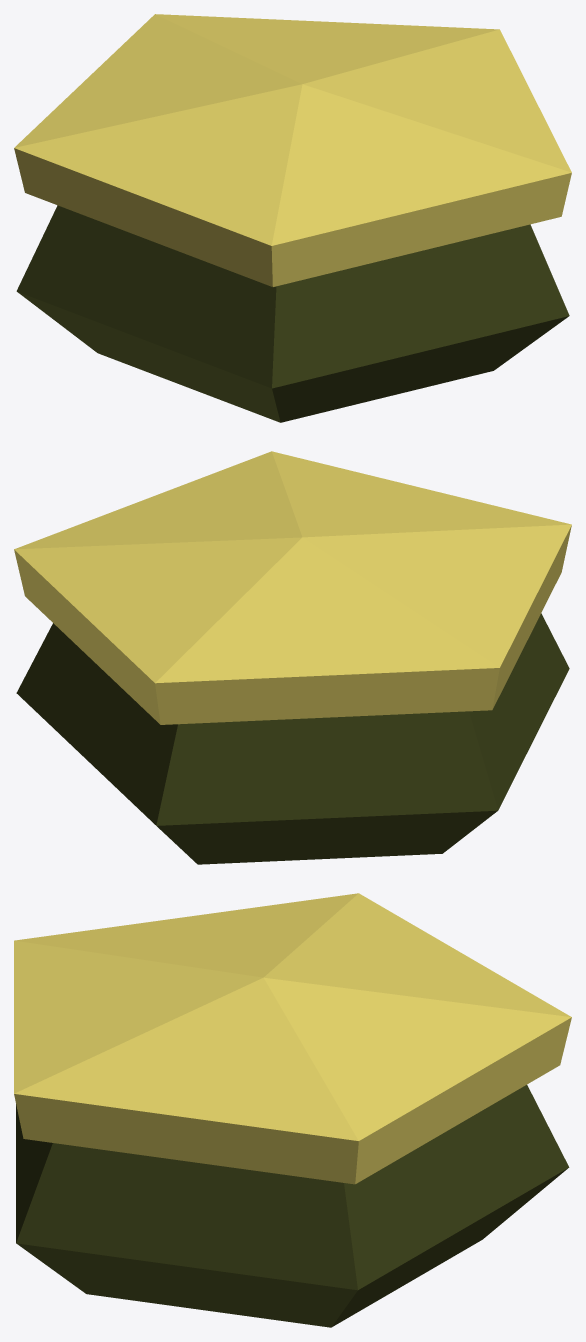
File: PotionD.fbx
3 views of the same model, one above another, from view 1: azimuth 30°, elevation 25°; view 2: azimuth 150°, elevation 25°; view 3: azimuth 270°, elevation 25° (orthographic). The views are drawn at different scales.
Visible parts, largest first — view 1: PotionD; view 2: PotionD; view 3: PotionD.
Part boxes in pixels (box(x1,y1,x2,y2)): PotionD: box(14, 14, 571, 422); PotionD: box(14, 451, 571, 864); PotionD: box(14, 893, 571, 1327).
Size of the model in its own units: 13.49 by 6.65 by 12.83.
